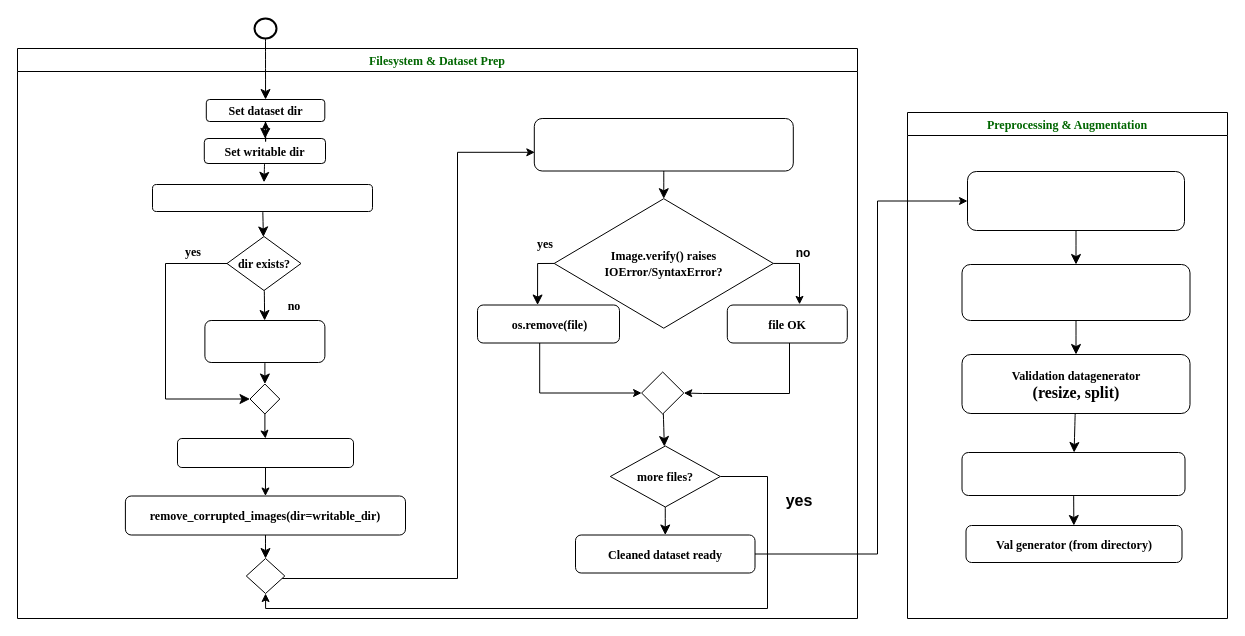
Some shapes in this 1245 by 636 pixel diagram are drawn without their labels. The centre of each missing label's shape, as x and y in pixels:
"Copy dataset to writable dir" belongs at [262,198].
"for file in dir: PIL.Image.open()" belongs at [663,144].
"If not exists → make dir" belongs at [264,341].
"Set IMG_SIZE, BATCH, EPOCHS, NUM_CLASSES, PATH" belongs at [1075,200].
"shutil.copytree(src, dst)" belongs at [265,453].
"Train datagenerator (resize, augment, split)" belongs at [1075,292].
"Train generator (from directory)" belongs at [1073,474].
